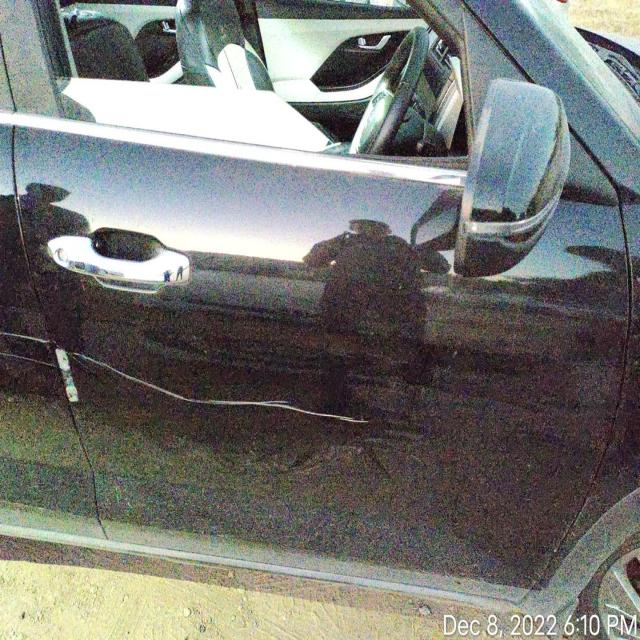damage: (57, 343, 375, 432)
